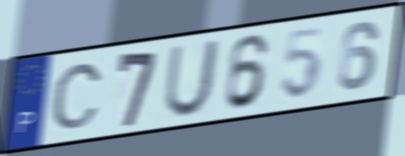5: (279, 25, 328, 102)
6: (224, 30, 270, 112), (336, 19, 383, 93)
7: (117, 50, 158, 129)
C: (49, 61, 105, 132)
U: (161, 37, 222, 120)
